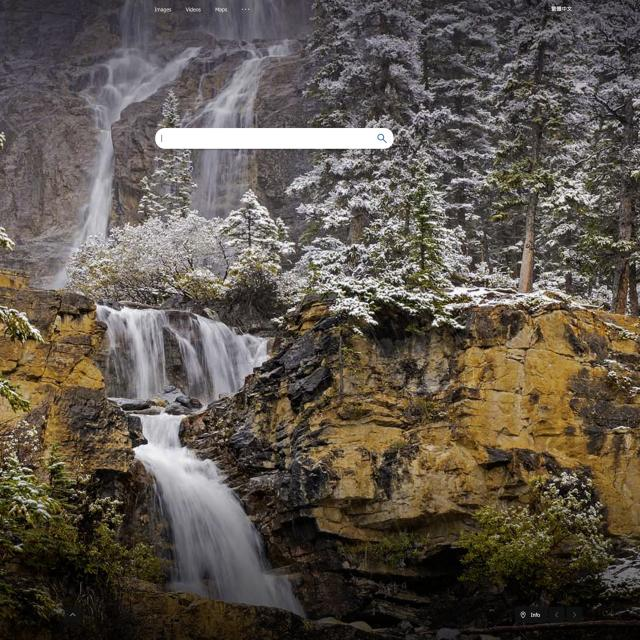CheckedTextView: (154, 126, 395, 150)
card: (2, 0, 640, 640)
carousel: (374, 132, 390, 145), (517, 608, 529, 622), (67, 611, 78, 621), (552, 610, 562, 620), (570, 610, 579, 620)
decoration: (149, 0, 577, 18)
